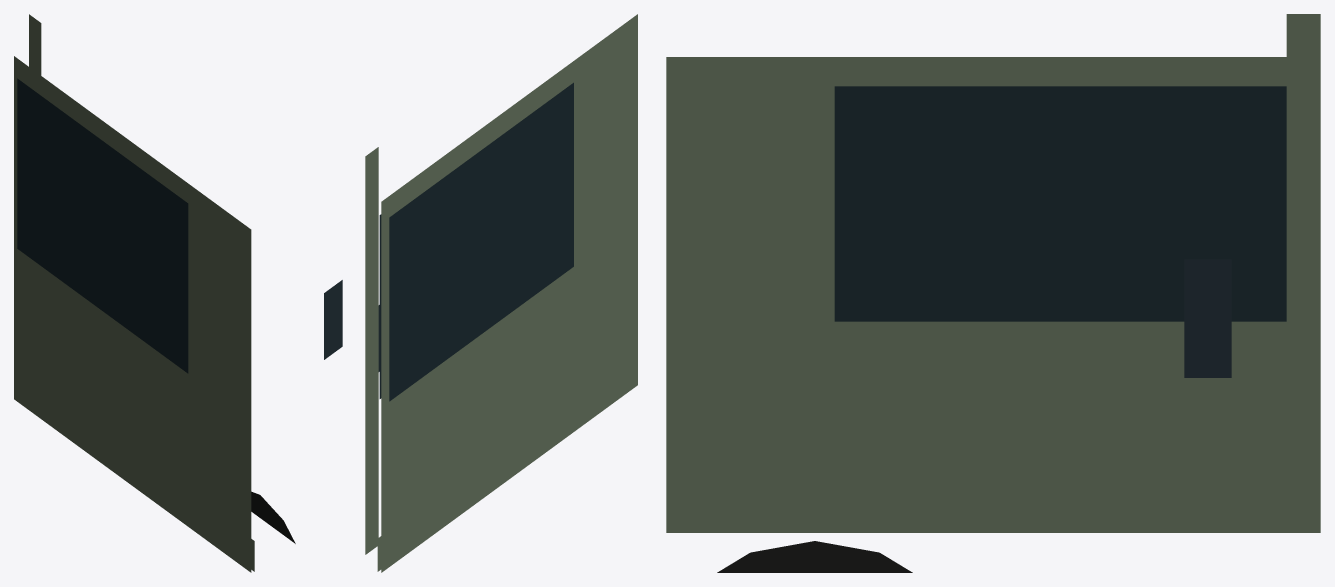
The model's file is guardvan-right.glb.
The picture shows the model from 3 angles, left to right: view 1: azimuth 30°, elevation 25°; view 2: azimuth 150°, elevation 25°; view 3: azimuth 270°, elevation 25°; orthographic projection. The views are drawn at different scales.
Size of the model in its own units: 0.354 by 1.48 by 1.67.
Materials: 1 (1 with a texture image).
